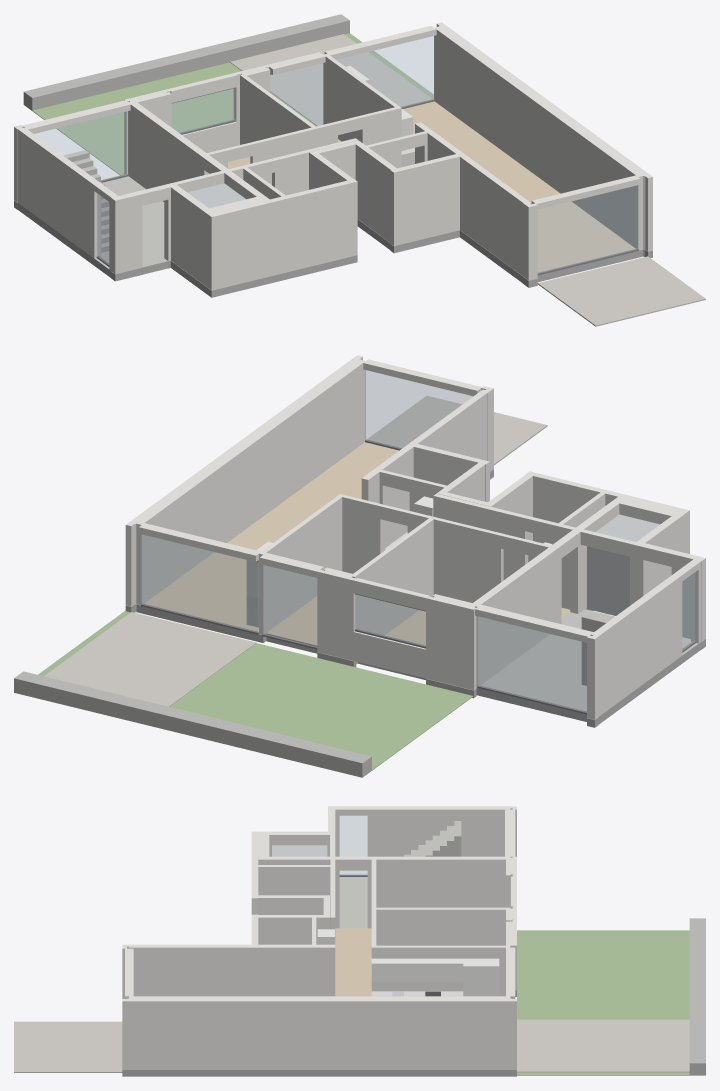
Rendered from apartment.glb.
The picture shows the model from 3 angles, top to bottom: view 1: azimuth 30°, elevation 25°; view 2: azimuth 150°, elevation 25°; view 3: azimuth 270°, elevation 25°; orthographic projection. The views are drawn at different scales.
Parts seen in each view (by area): view 1: walls, floor Wohnen / Essen, terrace N lawn, terrace N edge, terrace S paving, glass Living S glazing, terrace N paving, slab, glass Living N glazing, glass Stair N glazing, glass Zimmer 2 terrace door, floor Treppenhaus (+10 smaller); view 2: walls, terrace N lawn, terrace N paving, floor Wohnen / Essen, terrace N edge, glass Living N glazing, glass Stair N glazing, floor Treppenhaus, glass Living S glazing, slab, glass Zimmer 2 terrace door, terrace S paving (+12 smaller); view 3: walls, terrace N lawn, terrace N paving, terrace S paving, slab, terrace N edge, floor Korridor, Kitchen wall units, floor Treppenhaus, Kitchen tall units, glass Stair W entrance, Elevator car (+4 smaller).
Boxes of the visible parts, x1,y1,x2,y2 form: walls: (14,22,652,290); floor Wohnen / Essen: (403,101,635,272); terrace N lawn: (32,33,433,175); terrace N edge: (23,14,349,110); terrace S paving: (537,256,705,326); glass Living S glazing: (538,185,637,273); terrace N paving: (230,34,431,125); slab: (14,173,652,297); glass Living N glazing: (337,36,433,107); glass Stair N glazing: (34,111,127,180); glass Zimmer 2 terrace door: (270,63,322,126); floor Treppenhaus: (18,176,167,270); walls: (125,355,705,719); terrace N lawn: (38,611,473,770); terrace N paving: (44,612,256,706); floor Wohnen / Essen: (144,442,399,631); terrace N edge: (14,671,371,777); glass Living N glazing: (141,534,258,632); glass Stair N glazing: (478,616,586,712); floor Treppenhaus: (481,609,700,716); glass Living S glazing: (365,370,472,448); slab: (125,469,705,727); glass Zimmer 2 terrace door: (263,565,316,646); terrace S paving: (367,396,547,465); walls: (122,806,516,1069); terrace N lawn: (517,930,689,1075); terrace N paving: (517,1019,689,1072); terrace S paving: (14,1021,122,1072); slab: (122,990,516,1076); terrace N edge: (689,918,705,1075); floor Korridor: (335,928,371,996); Kitchen wall units: (371,958,463,981); floor Treppenhaus: (339,877,367,928); Kitchen tall units: (463,958,499,996); glass Stair W entrance: (340,815,367,874); Elevator car: (272,845,327,856).
Size of the model in its own units: 15.28 by 2.75 by 22.88.
